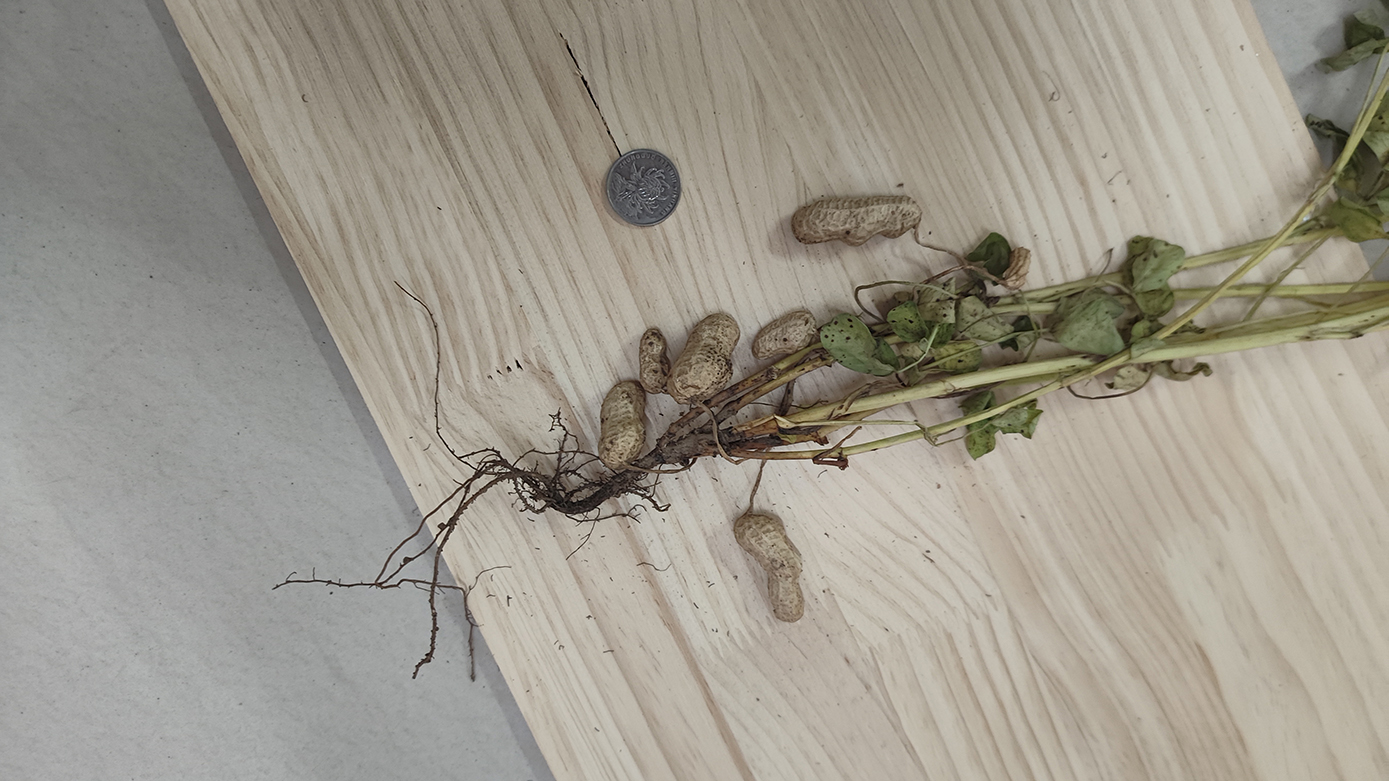h: (732, 511, 807, 622), (667, 311, 741, 407), (790, 194, 924, 245), (598, 378, 648, 471), (751, 309, 816, 362), (639, 327, 672, 394), (1000, 245, 1032, 289)
